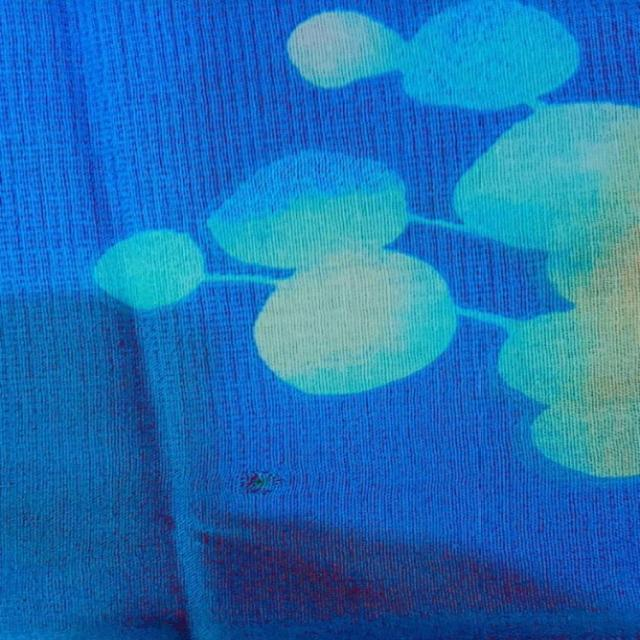cut: (225, 465, 323, 505)
